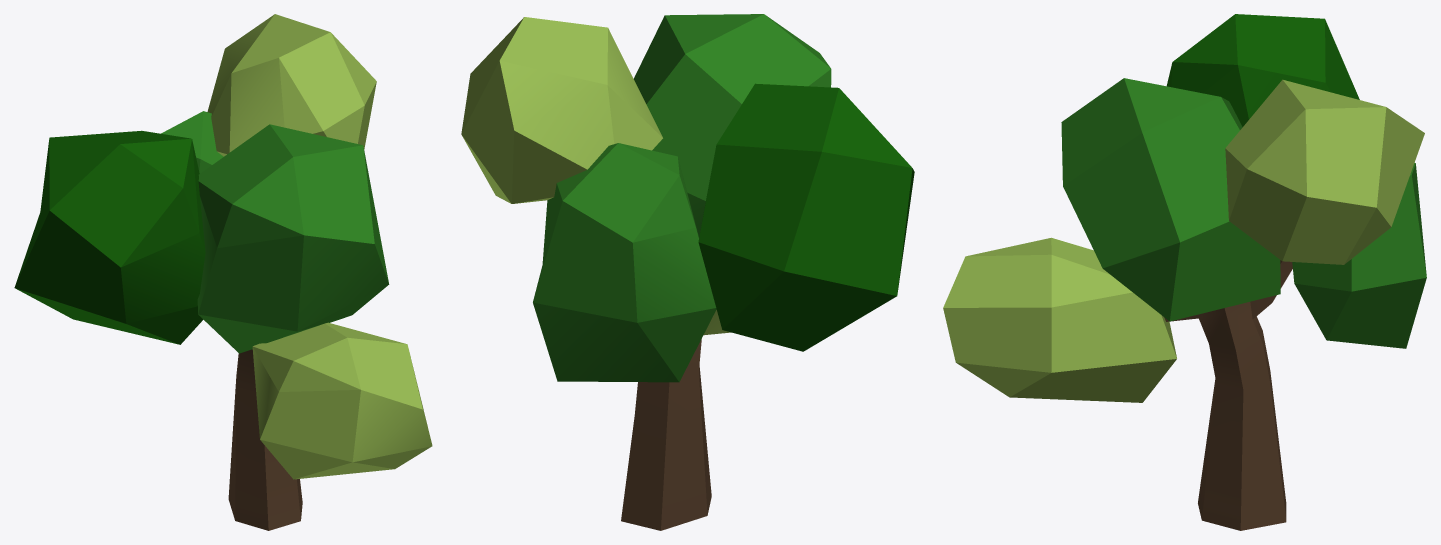
File: SM_Tree_T1.fbx
The picture shows the model from 3 angles, left to right: view 1: azimuth 30°, elevation 25°; view 2: azimuth 150°, elevation 25°; view 3: azimuth 270°, elevation 25°; orthographic projection. The views are drawn at different scales.
Visible parts, largest first — view 1: SM_Tree_T1; view 2: SM_Tree_T1; view 3: SM_Tree_T1.
Boxes of the visible parts, box(x1,y1,x2,y2) form: SM_Tree_T1: box(14, 14, 432, 530); SM_Tree_T1: box(461, 14, 914, 530); SM_Tree_T1: box(943, 14, 1426, 530).
Bounding box in the file's own units: 93.73 × 105 × 102.
